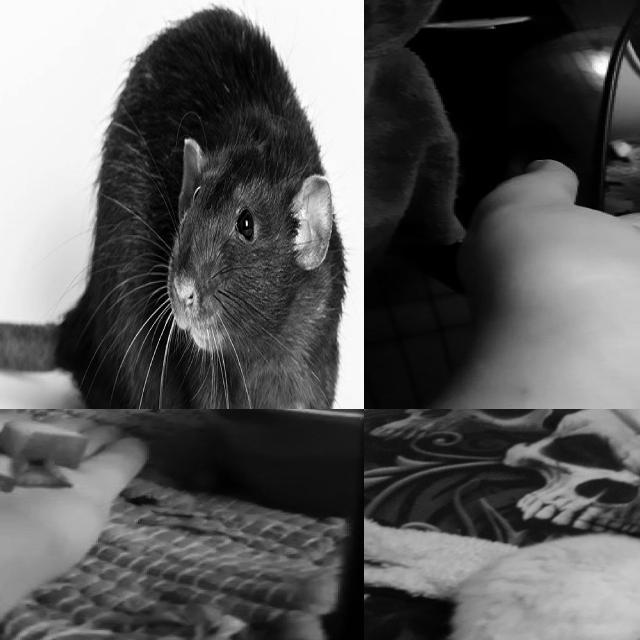rat: (0, 0, 354, 409), (446, 531, 640, 640)
